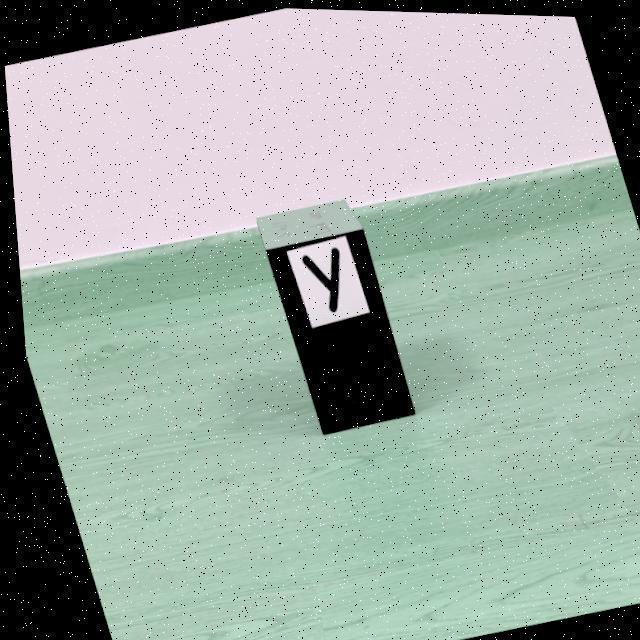Y: (297, 244, 336, 311)
